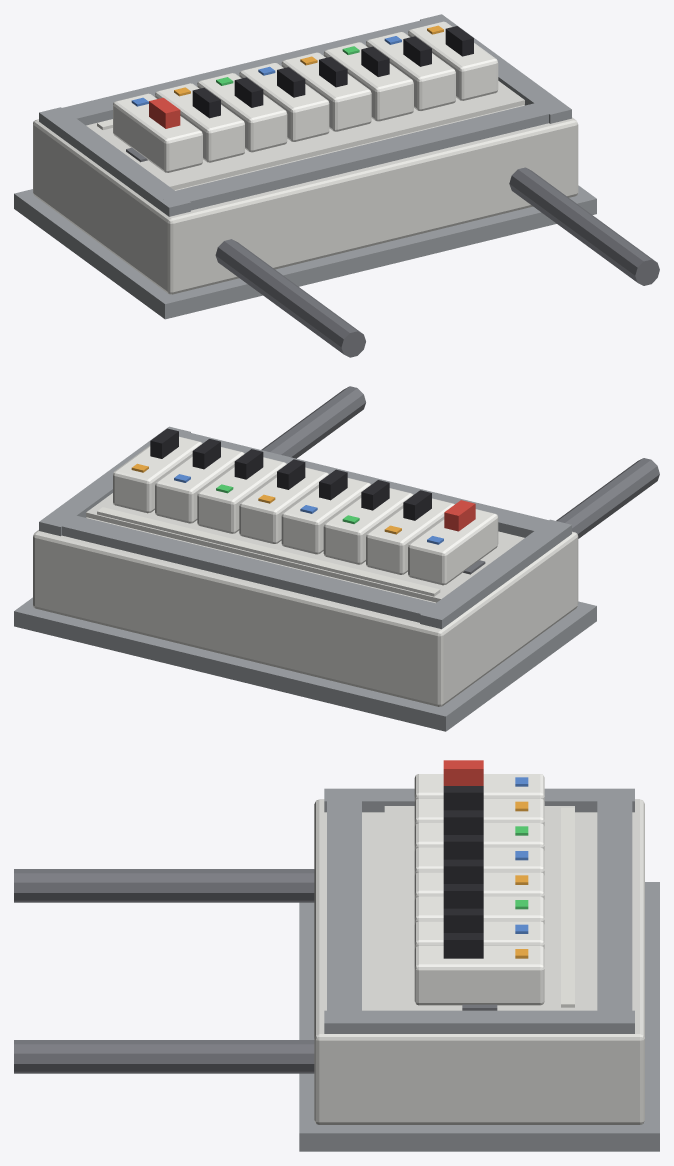
The model's file is extended_board8.obj.
3 renders of one model, top to bottom at view 1: azimuth 30°, elevation 25°; view 2: azimuth 150°, elevation 25°; view 3: azimuth 270°, elevation 25°, orthographic. The views are drawn at different scales.
Bounding box in the file's own units: 0.594 × 0.193 × 0.645.
1 material, 1 textured.
